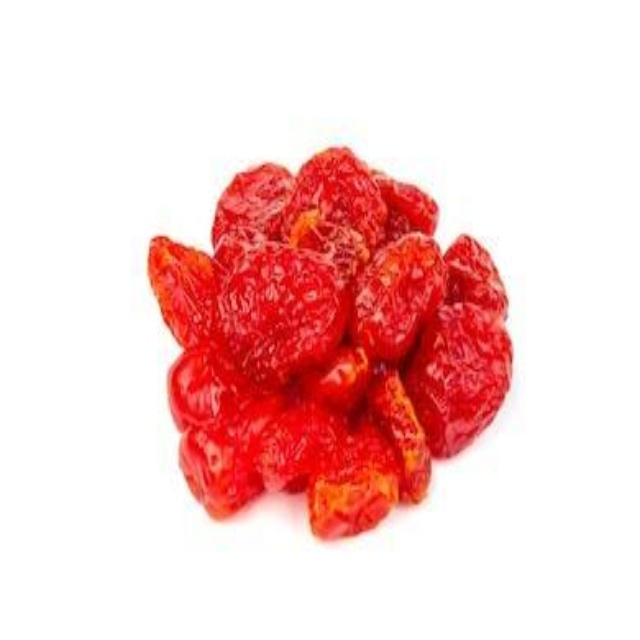tomato: (151, 153, 512, 544)
